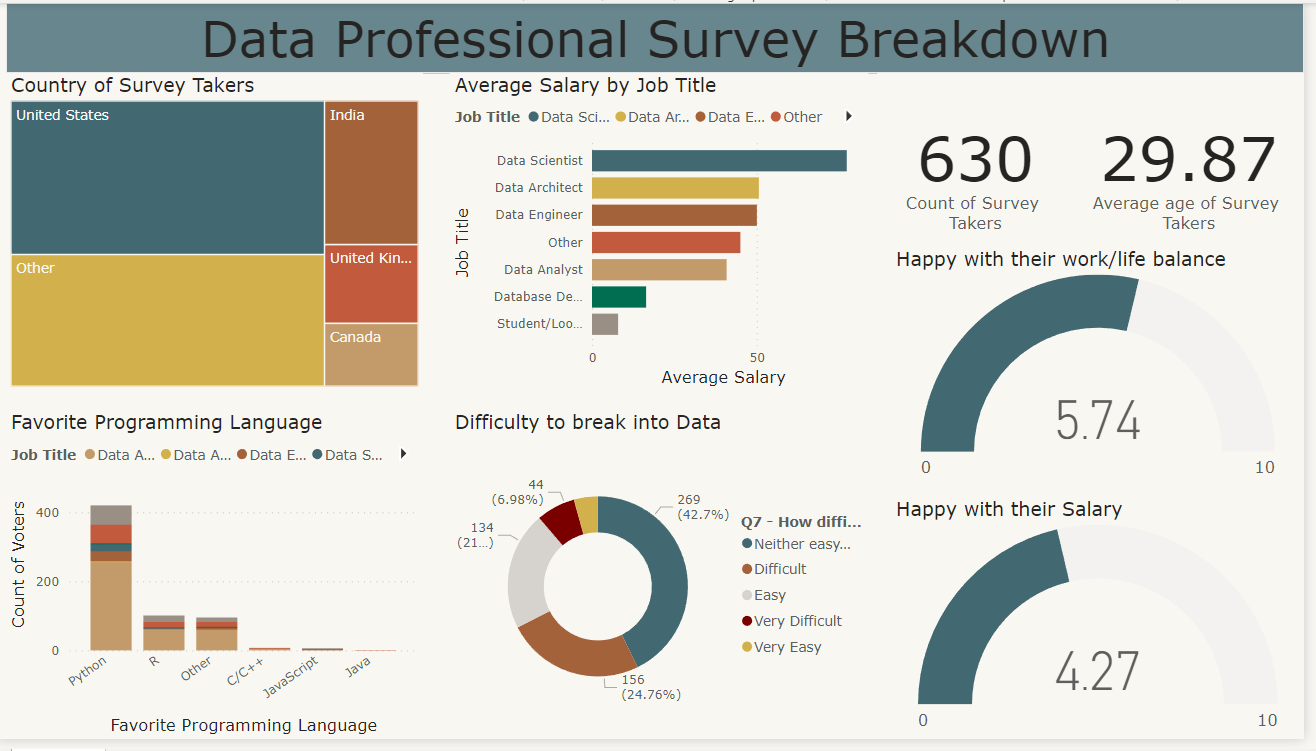

The dashboard page shown, as its layout file describes it:
{"tool":"powerbi","page":{"name":"Page 1","canvas":[1280,720],"ordinal":0},"visuals":[{"type":"textbox","box":[9.6,0,1270.7,68.6],"z":0},{"type":"card","fields":{"Values":["Count(Data Professional Survey.Unique ID)"]},"box":[861.8,68.5,191.9,179.7],"z":1000},{"type":"card","fields":{"Values":["Avg(Data Professional Survey.Q10 - Current Age)"]},"box":[1053.7,68.5,226.1,179.7],"z":2000},{"type":"barChart","title":"Average Salary by Job Title","fields":{"Category":["Data Professional Survey.Q1 - Which Title Best Fits your Current Role?.1"],"Y":["Avg(Data Professional Survey.Average Salary)"],"Series":["Data Professional Survey.Q1 - Which Title Best Fits your Current Role?.1"]},"box":[443.7,68.5,409.5,311.7],"z":3000},{"type":"columnChart","title":"Favorite Programming Language","fields":{"Category":["Data Professional Survey.Q5 - Favorite Programming Language.1"],"Y":["CountNonNull(Data Professional Survey.Unique ID)"],"Series":["Data Professional Survey.Q1 - Which Title Best Fits your Current Role?.1"]},"box":[9.8,398.5,408.3,321.5],"z":4000},{"type":"treemap","title":"Country of Survey Takers","fields":{"Group":["Data Professional Survey.Q11 - Which Country do you live in?.1"],"Values":["CountNonNull(Data Professional Survey.Q11 - Which Country do you live in?.1)"]},"box":[9.8,68.5,408.3,311.7],"z":5000},{"type":"gauge","title":"Happy with their Salary","fields":{"Y":["Avg(Data Professional Survey.Q6 - How Happy are you in your Current Position with the following? (Salary))"],"MinValue":["Min(Data Professional Survey.Q6 - How Happy are you in your Current Position with the following? (Salary))"],"MaxValue":["Max(Data Professional Survey.Q6 - How Happy are you in your Current Position with the following? (Salary))"]},"box":[875.5,483,404.8,237.4],"z":6000},{"type":"gauge","title":"Happy with their work/life balance","fields":{"Y":["Avg(Data Professional Survey.Q6 - How Happy are you in your Current Position with the following? (Work/Life Balance))"],"MinValue":["Min(Data Professional Survey.Q6 - How Happy are you in your Current Position with the following? (Work/Life Balance))"],"MaxValue":["Max(Data Professional Survey.Q6 - How Happy are you in your Current Position with the following? (Work/Life Balance))1"]},"box":[875.5,238.8,404.8,234.6],"z":7000},{"type":"donutChart","title":"Difficulty to break into Data","fields":{"Category":["Data Professional Survey.Q7 - How difficult was it for you to break into Data?"],"Y":["CountNonNull(Data Professional Survey.Q7 - How difficult was it for you to break into Data?)"]},"box":[443.7,398.5,409.5,321.5],"z":8000}]}

Visuals, with their boxes in screenshot pixels (x1, y1, x2, y2), scaled from the page's 1280x720 canvas onto the 1316x751 screenshot:
textbox: bbox=[10, 0, 1315, 72]
card - Count(Data Professional Survey.Unique ID): bbox=[886, 71, 1083, 259]
card - Avg(Data Professional Survey.Q10 - Current Age): bbox=[1083, 71, 1315, 259]
"Average Salary by Job Title" barChart: bbox=[456, 71, 877, 397]
"Favorite Programming Language" columnChart: bbox=[10, 416, 430, 750]
"Country of Survey Takers" treemap: bbox=[10, 71, 430, 397]
"Happy with their Salary" gauge: bbox=[900, 504, 1315, 750]
"Happy with their work/life balance" gauge: bbox=[900, 249, 1315, 494]
"Difficulty to break into Data" donutChart: bbox=[456, 416, 877, 750]
